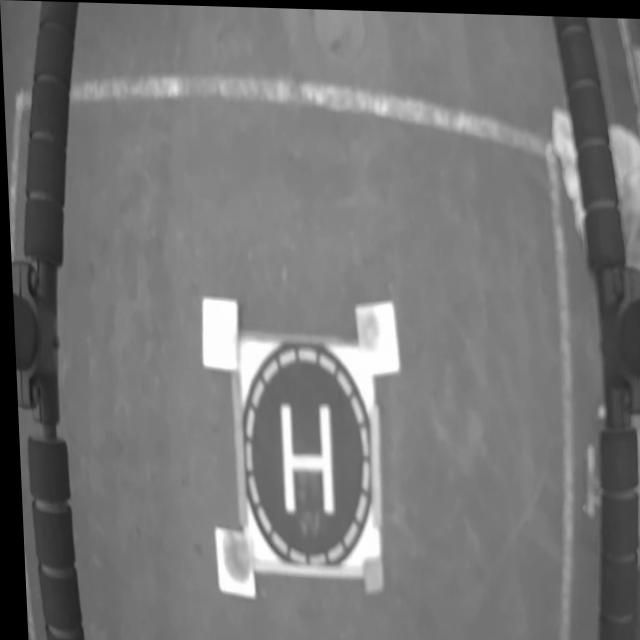Helipad: (276, 404, 329, 510)
